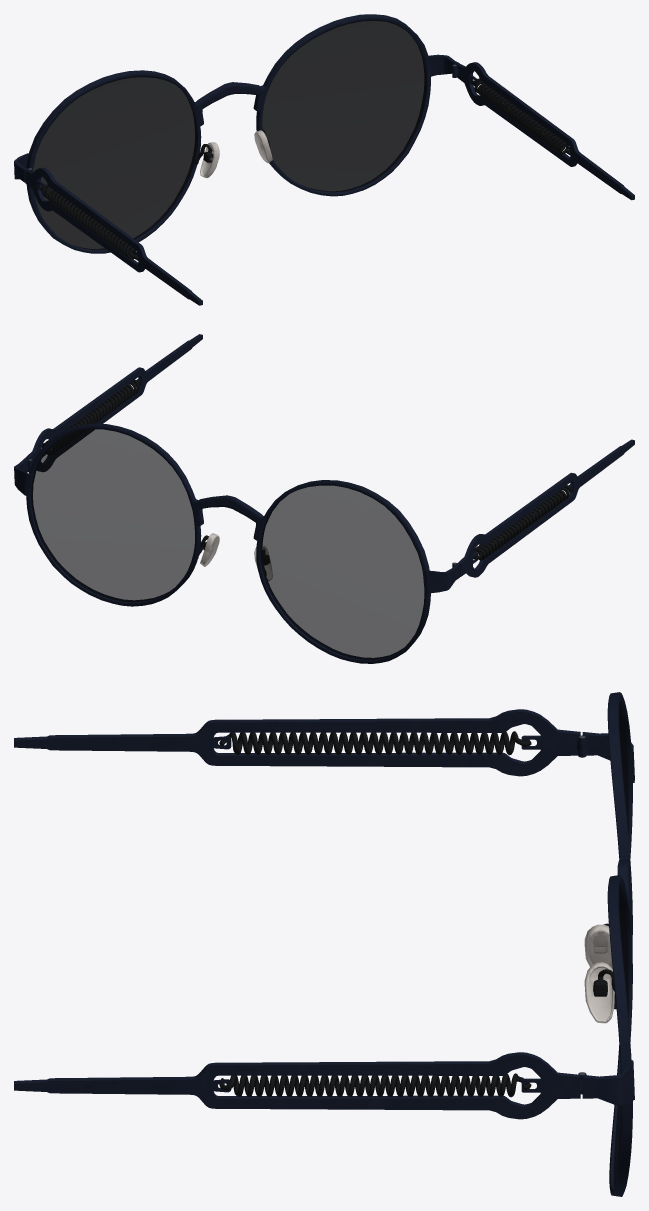
File: game___v2.glb
3 views of the same model, one above another, from view 1: azimuth 30°, elevation 25°; view 2: azimuth 150°, elevation 25°; view 3: azimuth 270°, elevation 25° (orthographic). The views are drawn at different scales.
Parts seen in each view (by area): view 1: sunglasses.001; view 2: sunglasses.001; view 3: sunglasses.001.
Part boxes in pixels (x1,y1,x2,y2): sunglasses.001: (14, 14, 634, 305); sunglasses.001: (14, 334, 634, 663); sunglasses.001: (14, 692, 634, 1196).
Size of the model in its own units: 0.8815 by 0.335 by 0.6566.
Materials: 6 (2 with a texture image).
